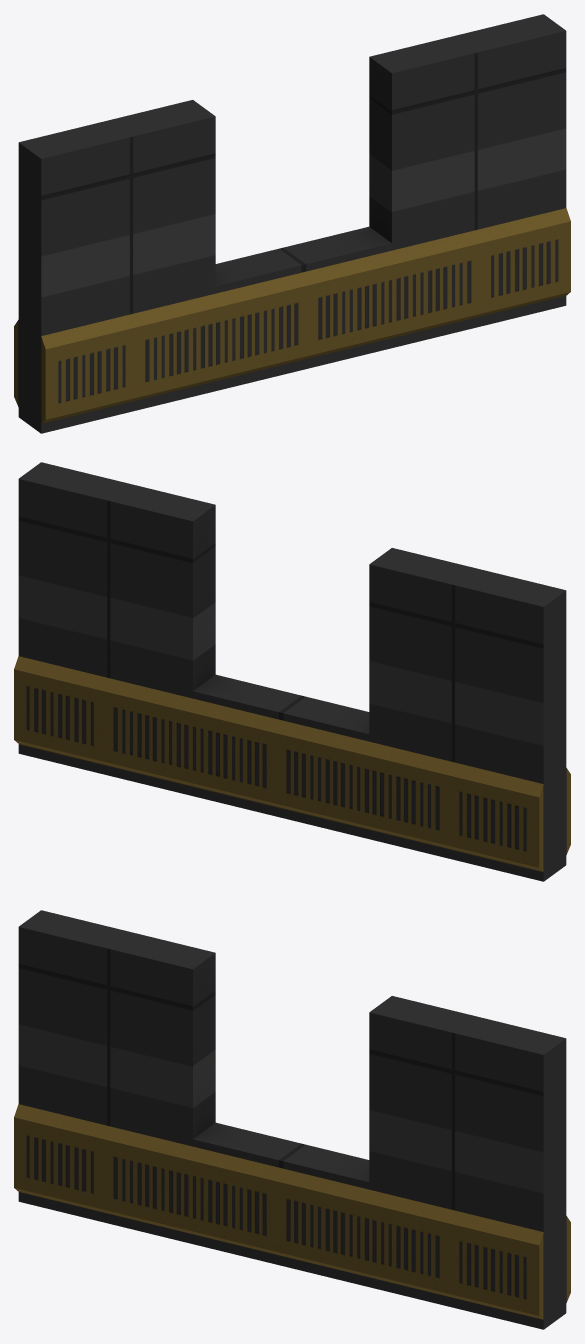
File: WindowWall.fbx
3 views of the same model, one above another, from view 1: azimuth 30°, elevation 25°; view 2: azimuth 150°, elevation 25°; view 3: azimuth 330°, elevation 25° (orthographic).
Parts seen in each view (by area): view 1: Wall Low Poly.002; view 2: Wall Low Poly.002; view 3: Wall Low Poly.002.
Part boxes in pixels (bbox=[...]): Wall Low Poly.002: bbox=[14, 14, 570, 433]; Wall Low Poly.002: bbox=[14, 462, 570, 881]; Wall Low Poly.002: bbox=[14, 910, 570, 1329].
Bounding box in the file's own units: 400 × 200 × 41.87.
1 material, 1 textured.
